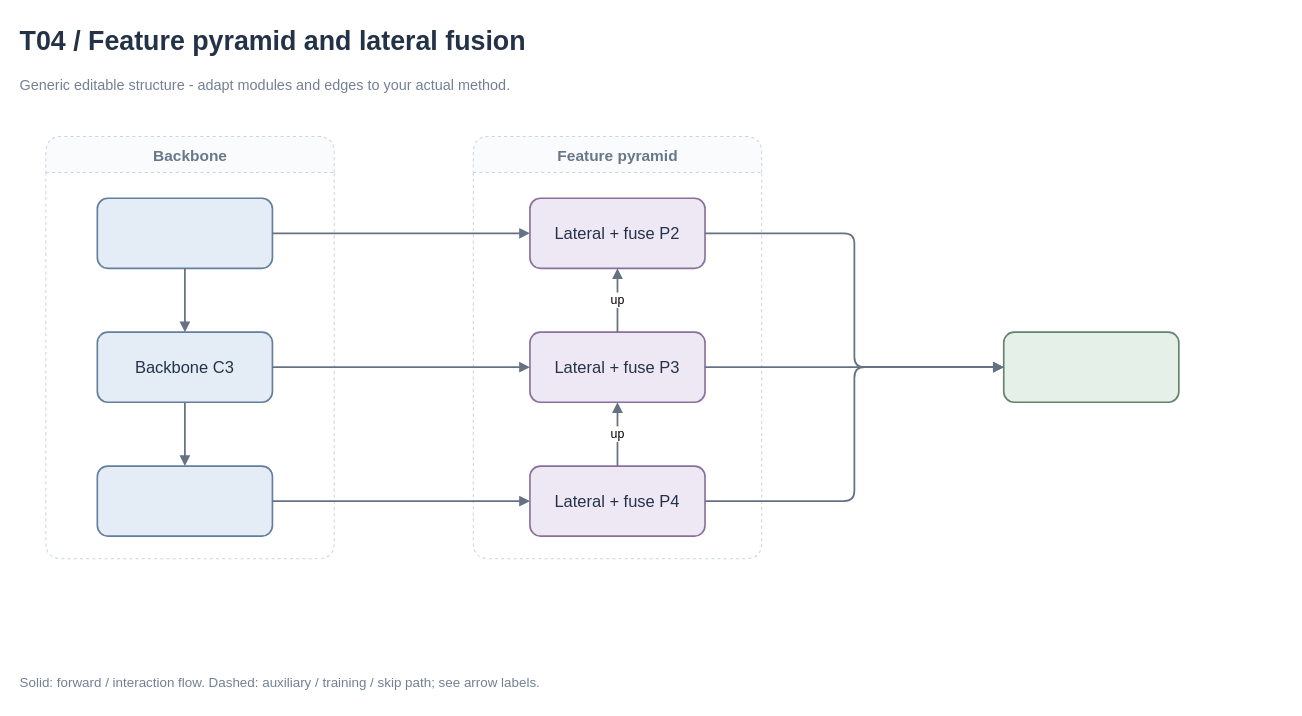
This 1302x716 diagram has some shape labels left out. The shapes that lost their labels are listed below. From the top down, each one's centre as x and y in pixels, then its label:
At [184,233]: "Backbone C2".
At [1090,367]: "Multi-scale head".
At [184,500]: "Backbone C4".
